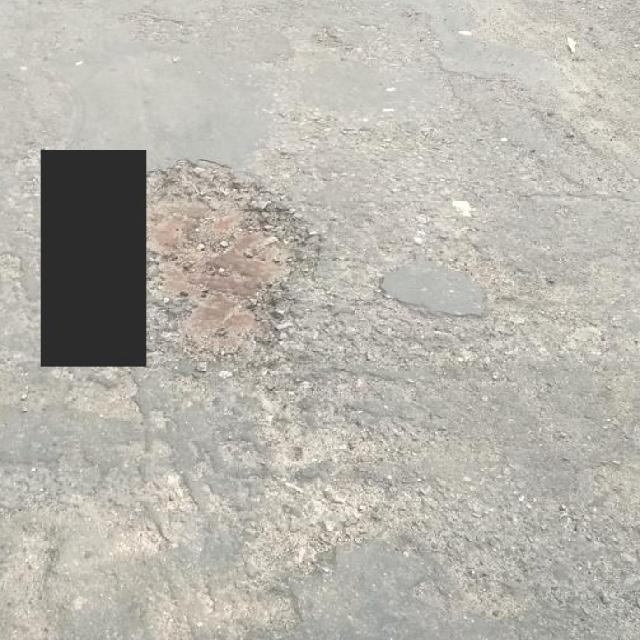road-pothole: (152, 159, 320, 382)
